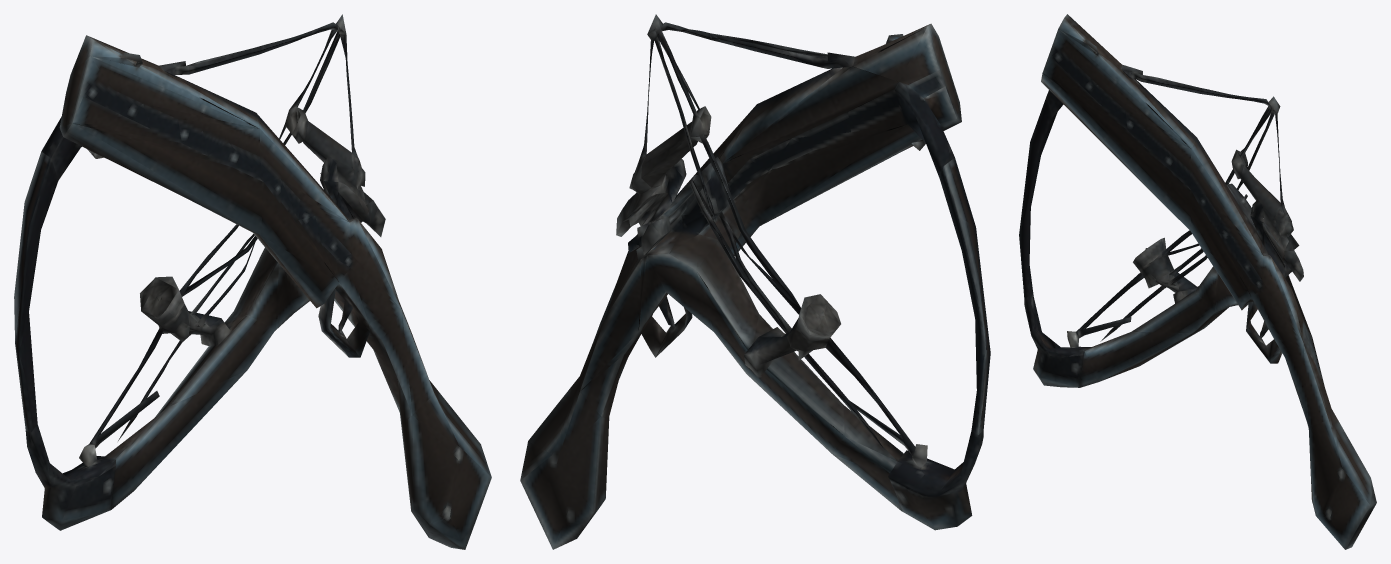
File: crossbow.glb
The picture shows the model from 3 angles, left to right: view 1: azimuth 30°, elevation 25°; view 2: azimuth 150°, elevation 25°; view 3: azimuth 330°, elevation 25°; orthographic projection. The views are drawn at different scales.
Visible parts, largest first — view 1: Meshy_local_bake_crossbow; view 2: Meshy_local_bake_crossbow; view 3: Meshy_local_bake_crossbow.
Boxes of the visible parts, x1,y1,x2,y2 form: Meshy_local_bake_crossbow: (14, 14, 491, 549); Meshy_local_bake_crossbow: (520, 14, 990, 549); Meshy_local_bake_crossbow: (1019, 14, 1376, 549).
Size of the model in its own units: 0.8196 by 1.02 by 0.1295.
Materials: 1 (1 with a texture image).
